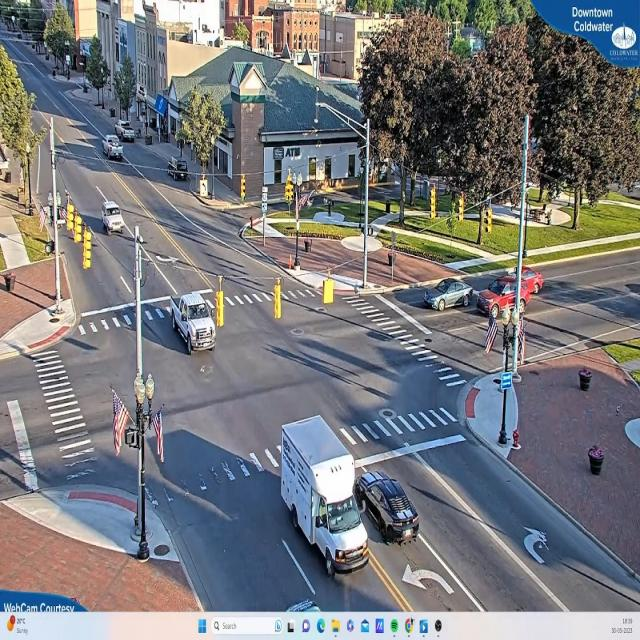car: (360, 467, 419, 540), (170, 293, 215, 357), (474, 273, 532, 318), (425, 278, 473, 310), (512, 258, 541, 291), (104, 206, 127, 237), (105, 135, 125, 159), (120, 125, 136, 143)
truck: (280, 419, 370, 578)
